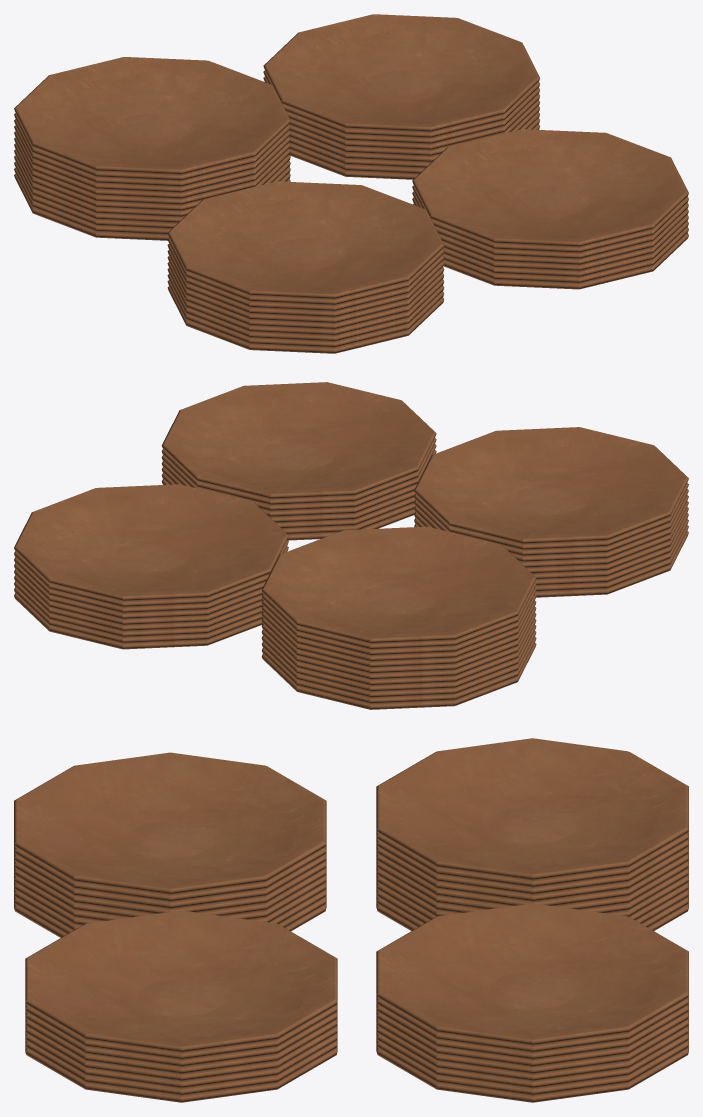
Rendered from PlateGroup.fbx.
3 views of the same model, one above another, from view 1: azimuth 30°, elevation 25°; view 2: azimuth 150°, elevation 25°; view 3: azimuth 270°, elevation 25° (orthographic). The views are drawn at different scales.
Parts seen in each view (by area): view 1: Pottery_Plate7 (×4), Pottery_Plate8 (×3), Pottery_Plate9 (×2), Pottery_Plate11, Pottery_Plate6 (×4), Pottery_Plate5 (×4), Pottery_Plate4 (×4), Pottery_Plate3 (×4), Pottery_Plate2 (×4), Pottery_Plate1 (×4), Pottery_Plate (×4), Pottery_Plate10; view 2: Pottery_Plate7 (×4), Pottery_Plate8 (×3), Pottery_Plate9 (×2), Pottery_Plate11, Pottery_Plate6 (×4), Pottery_Plate5 (×4), Pottery_Plate4 (×4), Pottery_Plate3 (×4), Pottery_Plate2 (×4), Pottery_Plate1 (×4), Pottery_Plate (×4), Pottery_Plate10; view 3: Pottery_Plate7 (×4), Pottery_Plate8 (×3), Pottery_Plate9 (×2), Pottery_Plate11, Pottery_Plate6 (×4), Pottery_Plate5 (×4), Pottery_Plate4 (×4), Pottery_Plate3 (×4), Pottery_Plate2 (×4), Pottery_Plate1 (×4), Pottery_Plate (×4), Pottery_Plate10.
Boxes of the visible parts, x1,y1,x2,y2 form: Pottery_Plate7 (×4): [14, 70, 688, 311]; Pottery_Plate8 (×3): [14, 14, 539, 305]; Pottery_Plate9 (×2): [14, 119, 444, 299]; Pottery_Plate11: [14, 57, 290, 174]; Pottery_Plate6 (×4): [14, 77, 688, 317]; Pottery_Plate5 (×4): [14, 94, 688, 323]; Pottery_Plate4 (×4): [14, 100, 688, 329]; Pottery_Plate3 (×4): [14, 106, 688, 335]; Pottery_Plate2 (×4): [14, 112, 688, 341]; Pottery_Plate1 (×4): [14, 118, 688, 347]; Pottery_Plate (×4): [14, 124, 688, 353]; Pottery_Plate10: [14, 113, 290, 180]; Pottery_Plate7 (×4): [14, 382, 688, 667]; Pottery_Plate8 (×3): [14, 483, 688, 661]; Pottery_Plate9 (×2): [261, 427, 688, 655]; Pottery_Plate11: [261, 526, 536, 643]; Pottery_Plate6 (×4): [14, 438, 688, 673]; Pottery_Plate5 (×4): [14, 444, 688, 679]; Pottery_Plate4 (×4): [14, 450, 688, 685]; Pottery_Plate3 (×4): [14, 467, 688, 691]; Pottery_Plate2 (×4): [14, 473, 688, 697]; Pottery_Plate1 (×4): [14, 479, 688, 703]; Pottery_Plate (×4): [14, 509, 688, 709]; Pottery_Plate10: [261, 582, 536, 649]; Pottery_Plate7 (×4): [14, 851, 688, 1052]; Pottery_Plate8 (×3): [14, 844, 688, 1045]; Pottery_Plate9 (×2): [14, 752, 688, 894]; Pottery_Plate11: [376, 738, 688, 880]; Pottery_Plate6 (×4): [14, 858, 688, 1059]; Pottery_Plate5 (×4): [14, 865, 688, 1066]; Pottery_Plate4 (×4): [14, 872, 688, 1073]; Pottery_Plate3 (×4): [14, 880, 688, 1081]; Pottery_Plate2 (×4): [14, 887, 688, 1088]; Pottery_Plate1 (×4): [14, 894, 688, 1095]; Pottery_Plate (×4): [14, 901, 688, 1102]; Pottery_Plate10: [376, 829, 688, 887].
Bounding box in the file's own units: 32.13 × 5.38 × 32.44.
